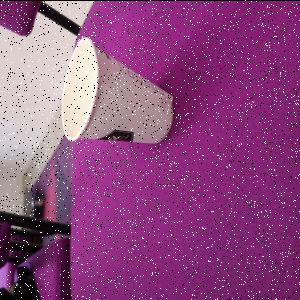Cup: (62, 36, 176, 146)
